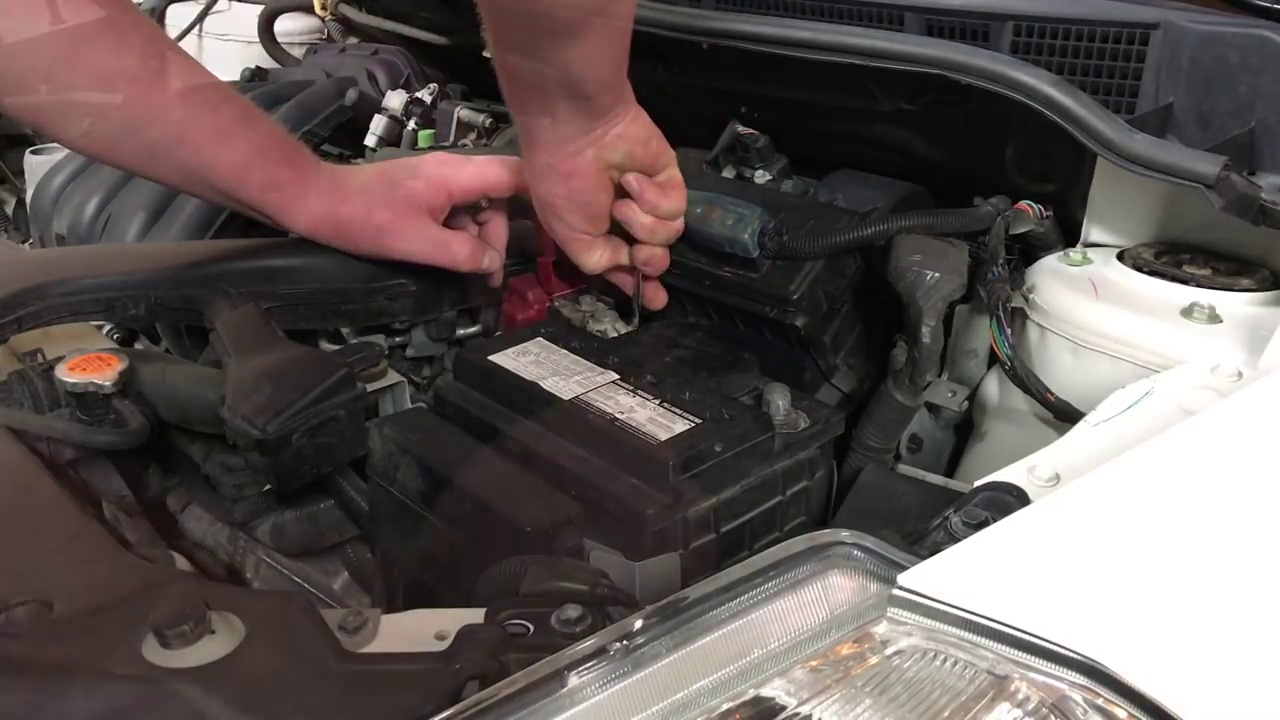battery: (443, 289, 798, 469)
neg_disconnected: (699, 340, 834, 446)
pos_touched: (470, 172, 674, 340)
